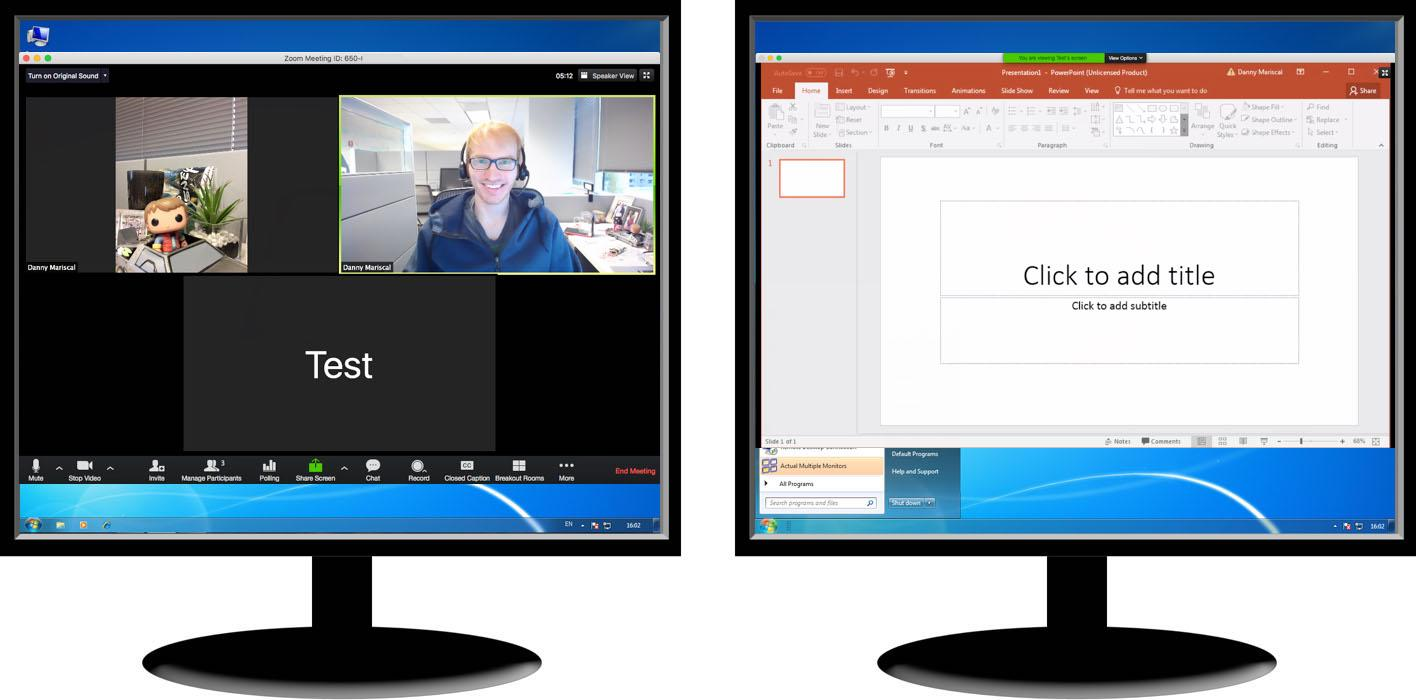monitor: (733, 1, 1416, 558), (0, 0, 681, 556)
